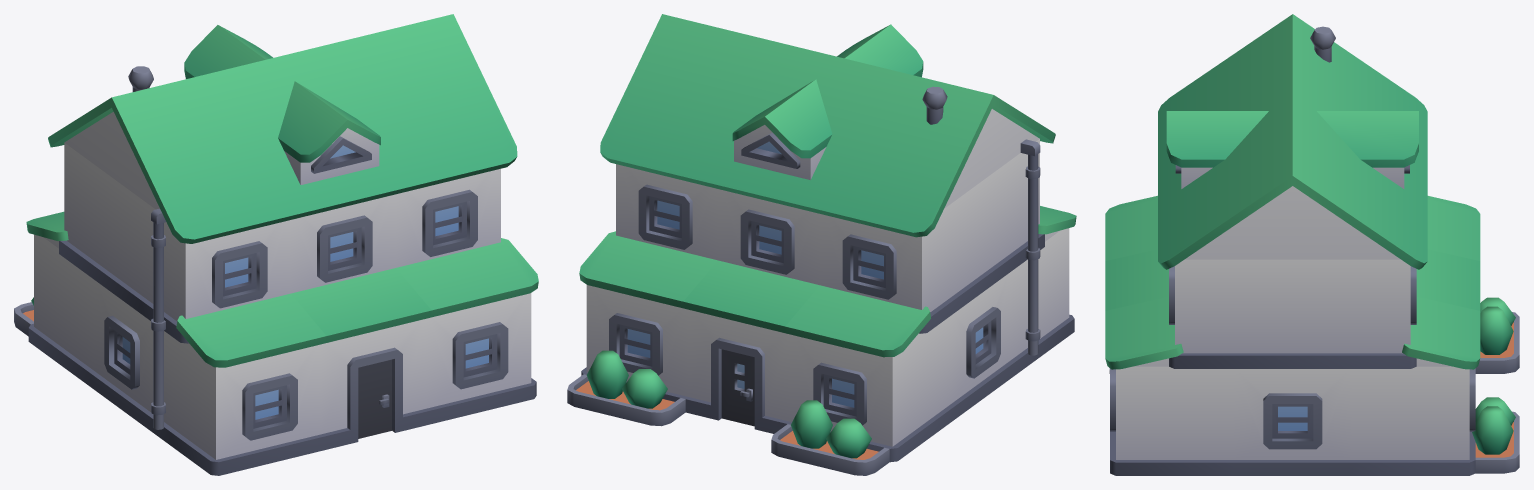
Rendered from market.glb.
The picture shows the model from 3 angles, left to right: view 1: azimuth 30°, elevation 25°; view 2: azimuth 150°, elevation 25°; view 3: azimuth 270°, elevation 25°; orthographic projection. The views are drawn at different scales.
Parts seen in each view (by area): view 1: market; view 2: market; view 3: market.
Boxes of the visible parts, left/top/right/bottom form: market: left=14, top=14, right=538, bottom=475; market: left=567, top=14, right=1076, bottom=475; market: left=1105, top=14, right=1519, bottom=475.
Bounding box in the file's own units: 1.31 × 1.16 × 1.41.
